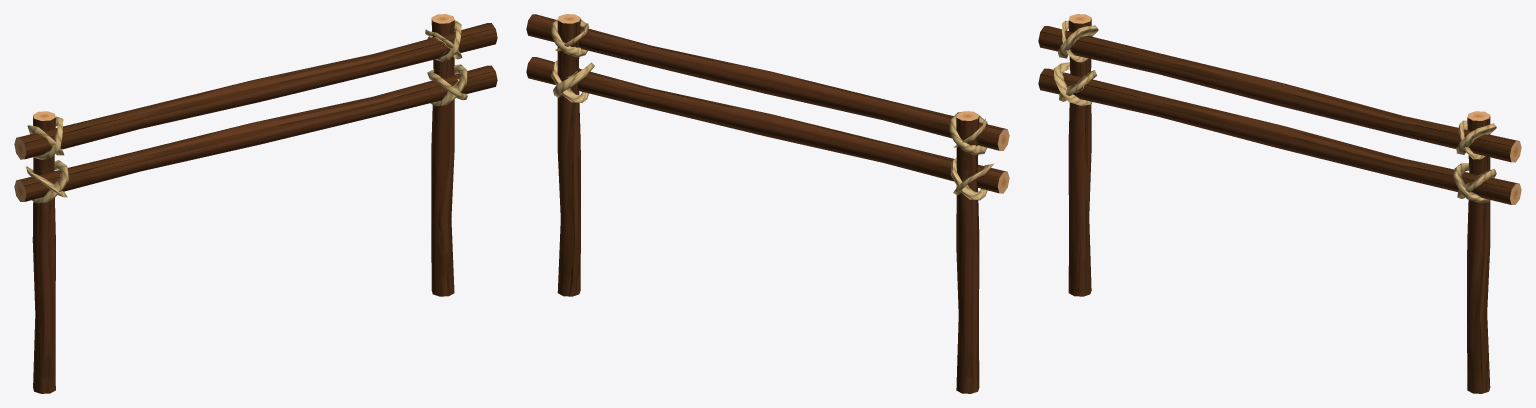
Rendered from OBS0110213.fbx.
The picture shows the model from 3 angles, left to right: view 1: azimuth 30°, elevation 25°; view 2: azimuth 150°, elevation 25°; view 3: azimuth 330°, elevation 25°; orthographic projection.
Parts seen in each view (by area): view 1: smOBS0110213; view 2: smOBS0110213; view 3: smOBS0110213.
Boxes of the visible parts, box(x1,y1,x2,y2) form: smOBS0110213: box(14, 14, 497, 393); smOBS0110213: box(526, 14, 1009, 393); smOBS0110213: box(1038, 14, 1521, 393).
Bounding box in the file's own units: 961 × 532 × 93.
1 material, 1 textured.
